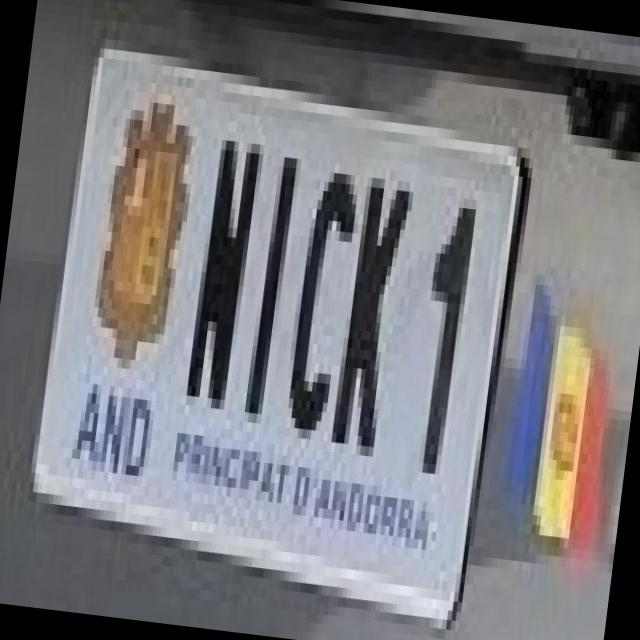1: (384, 164, 494, 467), (227, 125, 305, 415)
C: (268, 140, 358, 431)
K: (318, 155, 416, 448)
N: (169, 98, 269, 400)
